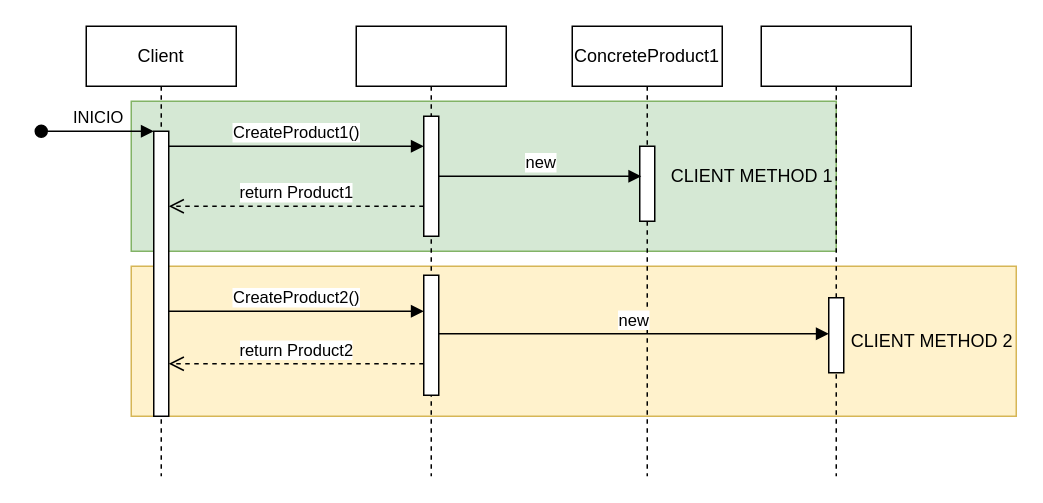
This 1043x503 diagram has some shape labels left out. The shapes that lost their labels are listed below. From the top down, each one's centre as x and y in pixels, then its label:
the point at 430,250: ConcreteFactory
the point at 835,250: ConcreteProduct2
